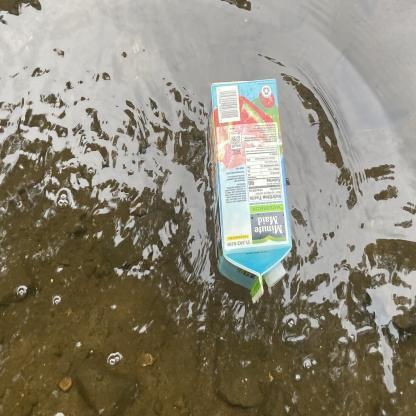trash: (206, 69, 296, 306)
